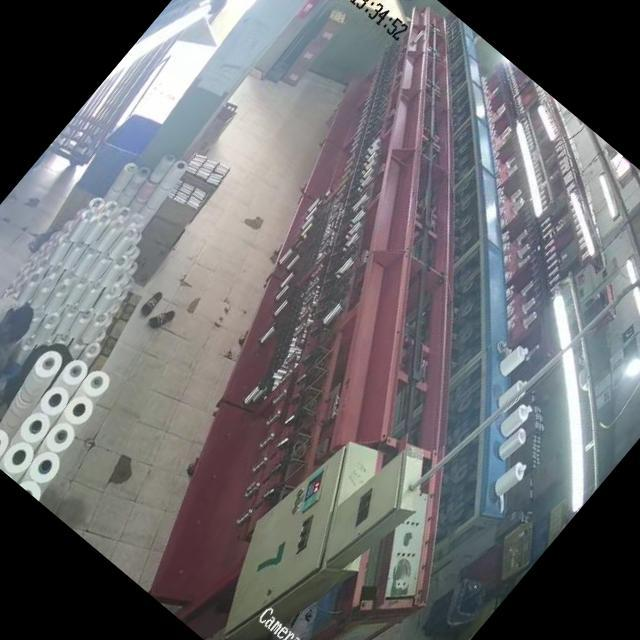person: (0, 286, 42, 378), (0, 348, 26, 440)
